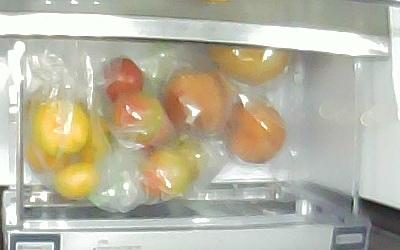peach_vinyl: (162, 71, 230, 135), (223, 100, 287, 165)
pear_vinyl: (205, 44, 290, 86)
tangerine_vinyl: (32, 99, 88, 155), (53, 162, 100, 200), (77, 115, 109, 164), (25, 145, 71, 173)
tomato_vinyl: (140, 145, 190, 199), (114, 94, 163, 143), (103, 56, 144, 101), (168, 141, 203, 181), (144, 112, 172, 149)
